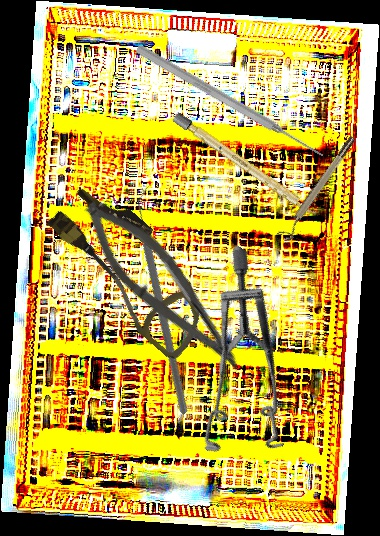Cannula: (32, 174, 231, 363)
Chopper: (51, 184, 282, 416)
Fixation Ring: (276, 134, 362, 244)
Micro Scissor: (64, 187, 265, 383)
Pusher: (133, 42, 327, 162)
Scalpel Handle: (171, 111, 320, 220)
Speculum: (135, 244, 361, 484)
